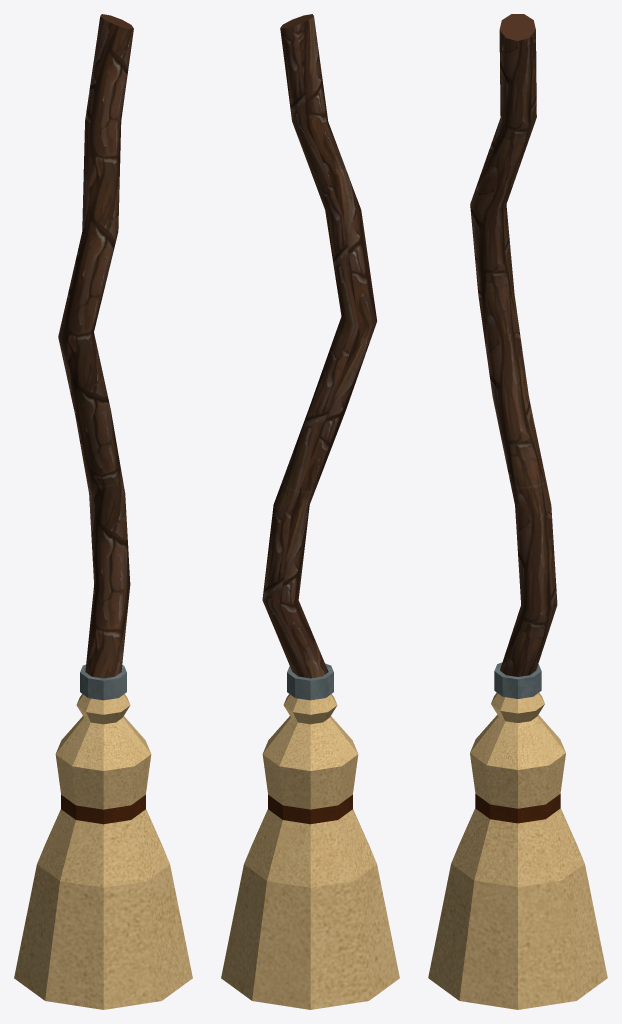
Rendered from broom.FBX.
The picture shows the model from 3 angles, left to right: view 1: azimuth 30°, elevation 25°; view 2: azimuth 150°, elevation 25°; view 3: azimuth 270°, elevation 25°; orthographic projection.
Visible parts, largest first — view 1: Cylinder001; view 2: Cylinder001; view 3: Cylinder001.
Part boxes in pixels (x1,y1,x2,y2): Cylinder001: (14,14,192,1009); Cylinder001: (221,14,399,1009); Cylinder001: (428,14,607,1009).
Bounding box in the file's own units: 0.2982 × 1.78 × 0.3028.
